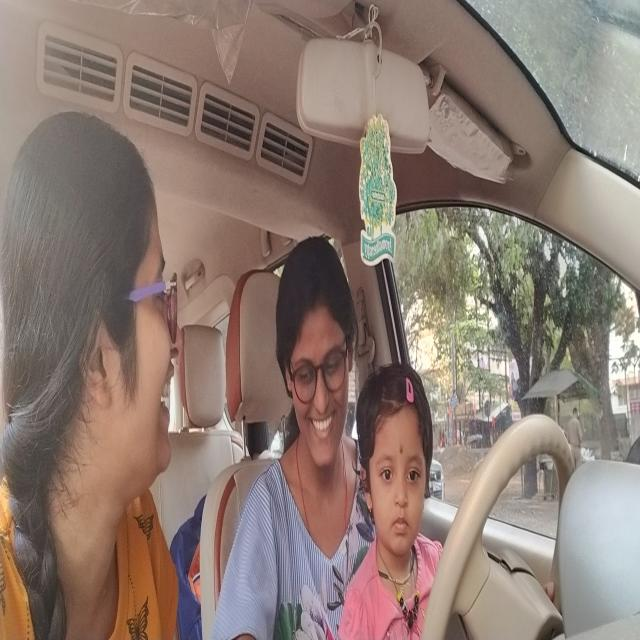child: (355, 366, 437, 568)
person: (0, 105, 191, 505), (277, 228, 358, 488)
